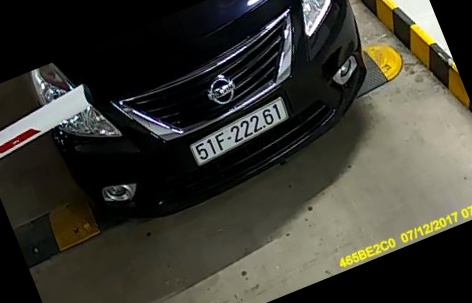plate: (183, 98, 294, 163)
